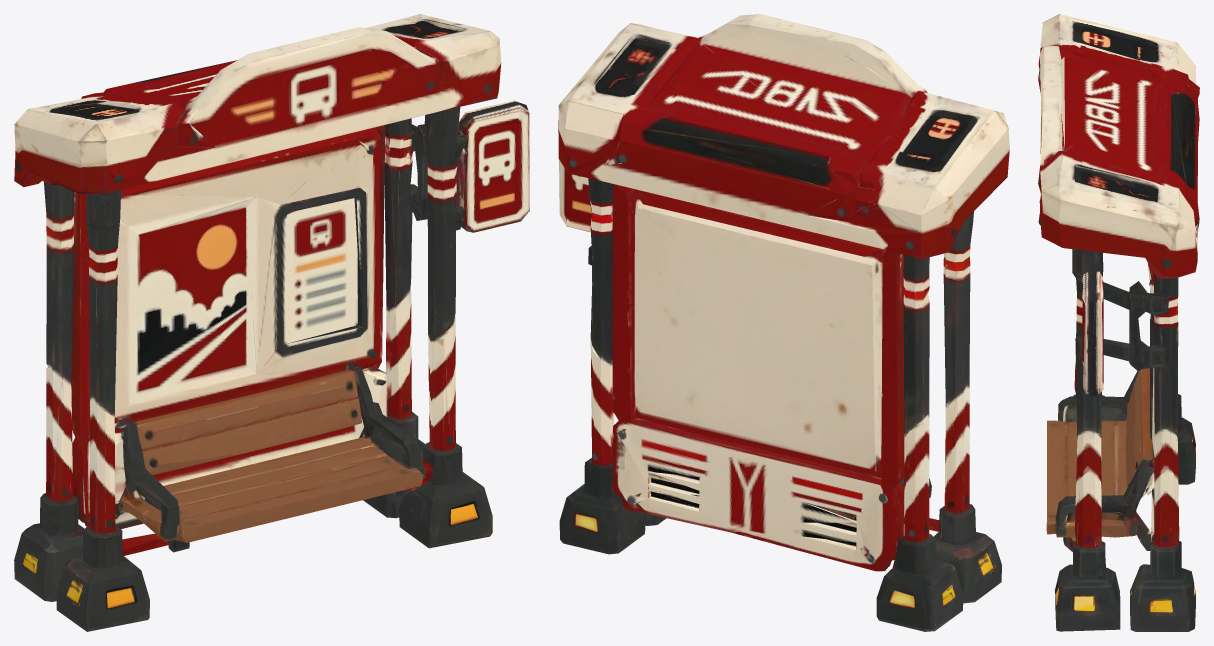
The model's file is bus-stop.glb.
3 views of the same model, side by side, from view 1: azimuth 30°, elevation 25°; view 2: azimuth 150°, elevation 25°; view 3: azimuth 270°, elevation 25° (orthographic). The views are drawn at different scales.
Parts seen in each view (by area): view 1: output_unwrapped; view 2: output_unwrapped; view 3: output_unwrapped.
Part boxes in pixels (x1=…): output_unwrapped: x1=14, y1=14, x2=529, y2=631; output_unwrapped: x1=558, y1=14, x2=1009, y2=631; output_unwrapped: x1=1038, y1=14, x2=1199, y2=631.
Size of the model in its own units: 1.73 by 1.9 by 0.584.
1 material, 1 textured.
